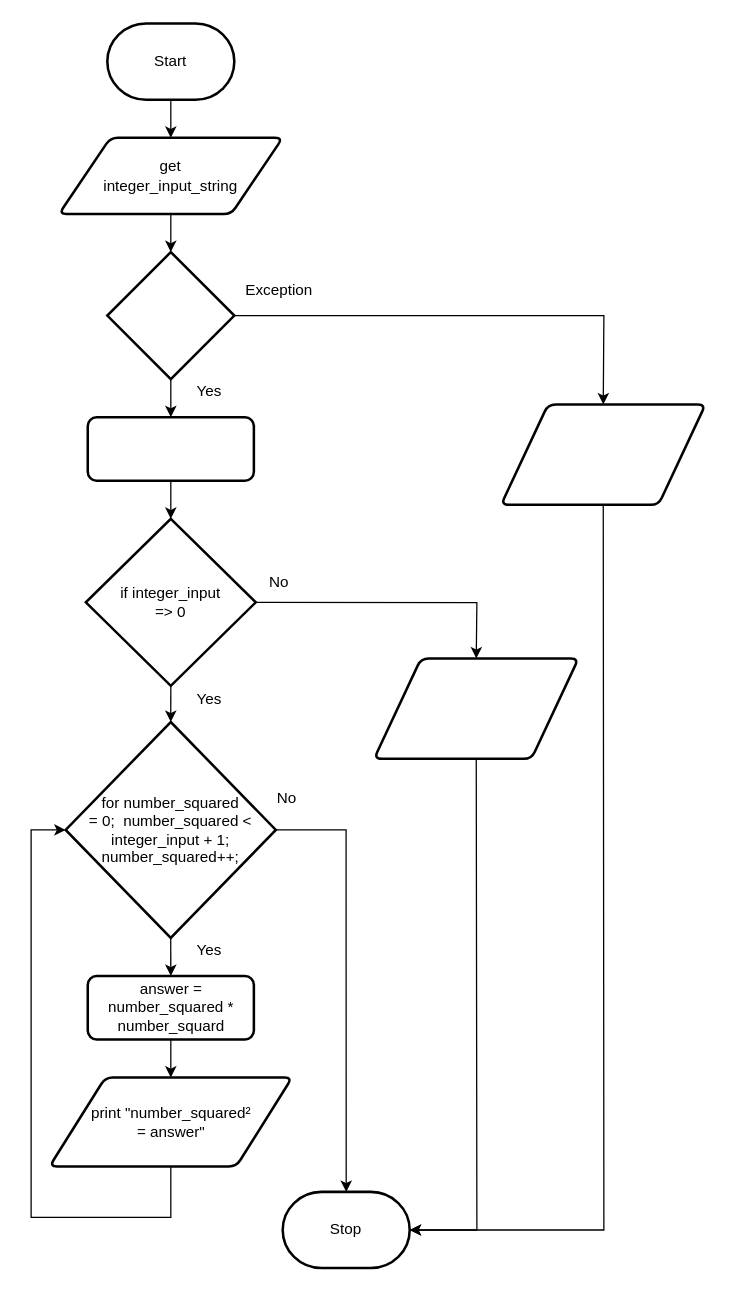
Some shapes in this 729 by 1290 pixel diagram are drawn without their labels. Here are the shapes that lost their labels. From the top down, the centre of each, then its label:
(170,315): Try
(170,448): convert integer_input_string to int
(602,454): print "Sorry, that is not a valid integer."
(475,708): print "Sorry, this program only accepts positive integers."
